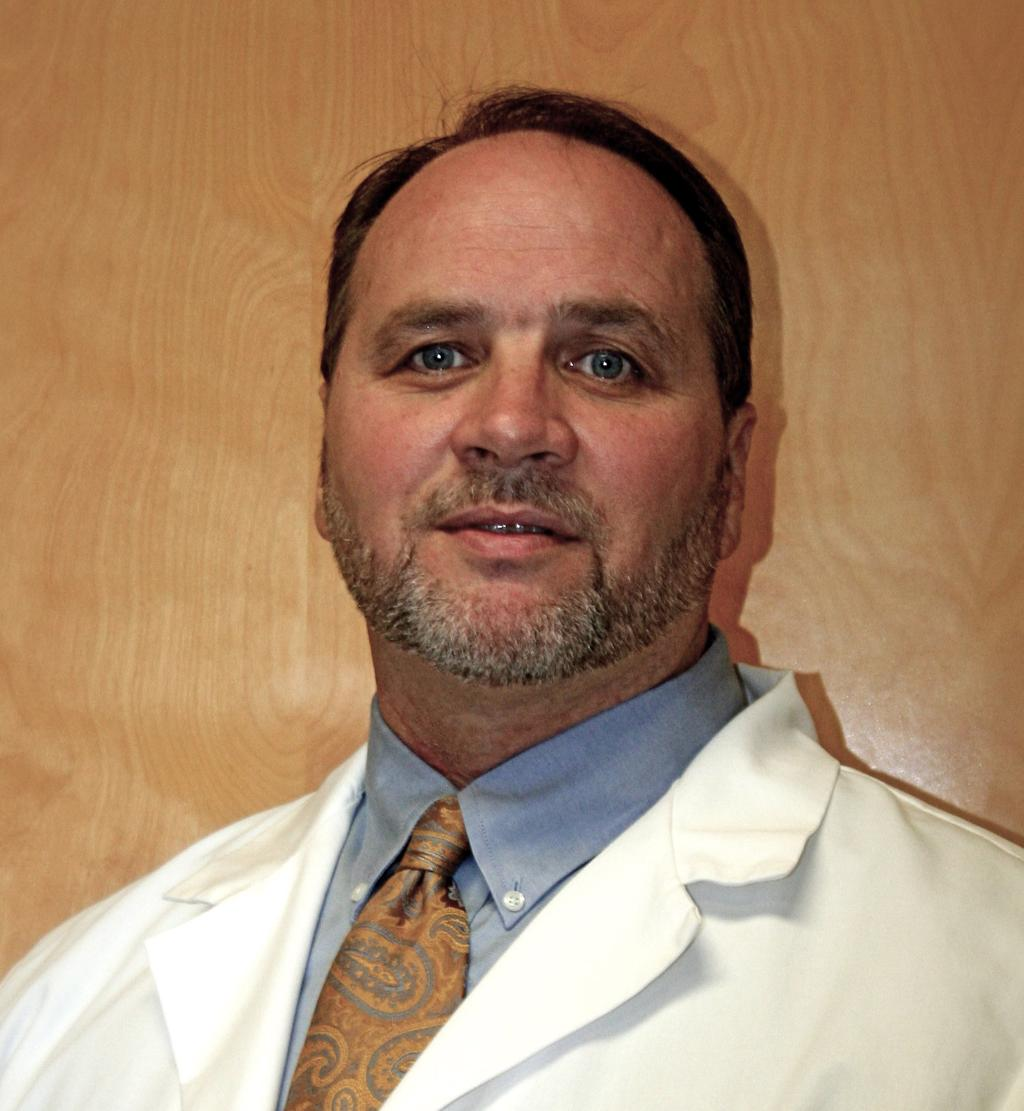face: (328, 141, 725, 679)
